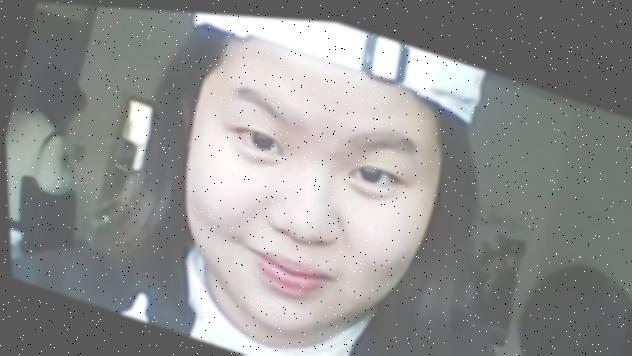eye: (248, 123, 275, 148), (358, 157, 381, 180)
iris: (232, 122, 286, 156), (346, 154, 397, 185)
